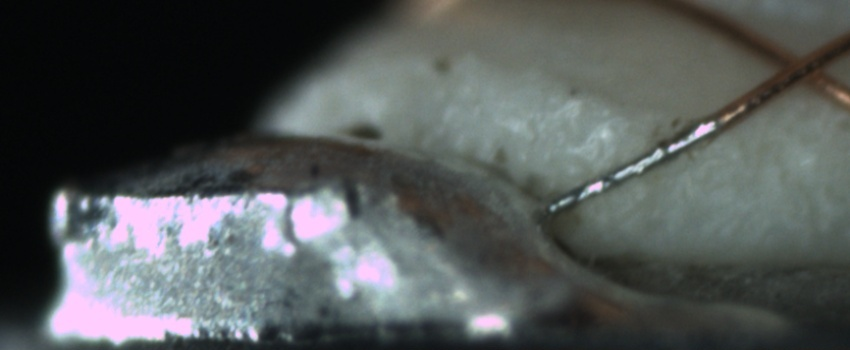CL: (754, 29, 846, 96)
TS: (544, 117, 718, 217)
